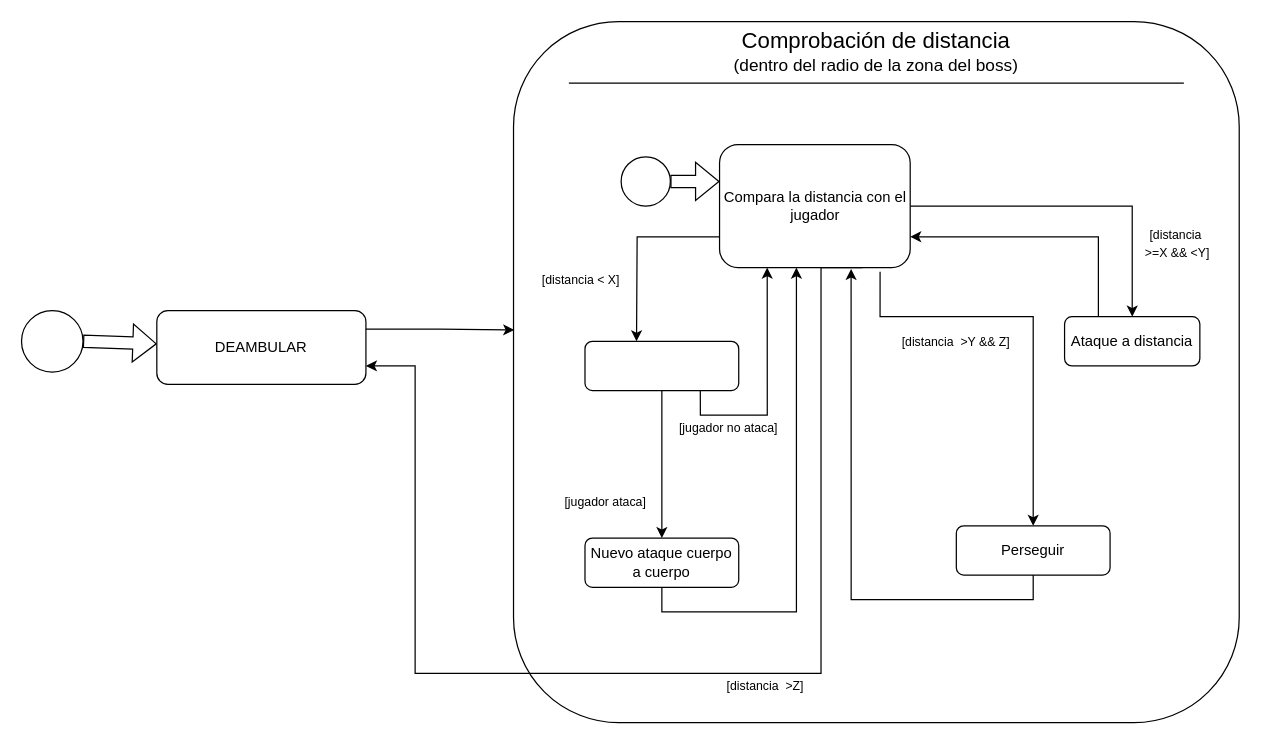
Some shapes in this 1261 by 744 pixel diagram are drawn without their labels. The shapes that lost their labels are listed below. From the top down, each one's centre as x and y in pixels, then its label:
[645,181]: H*
[661,365]: Ataque cuerpo a cuerpo
